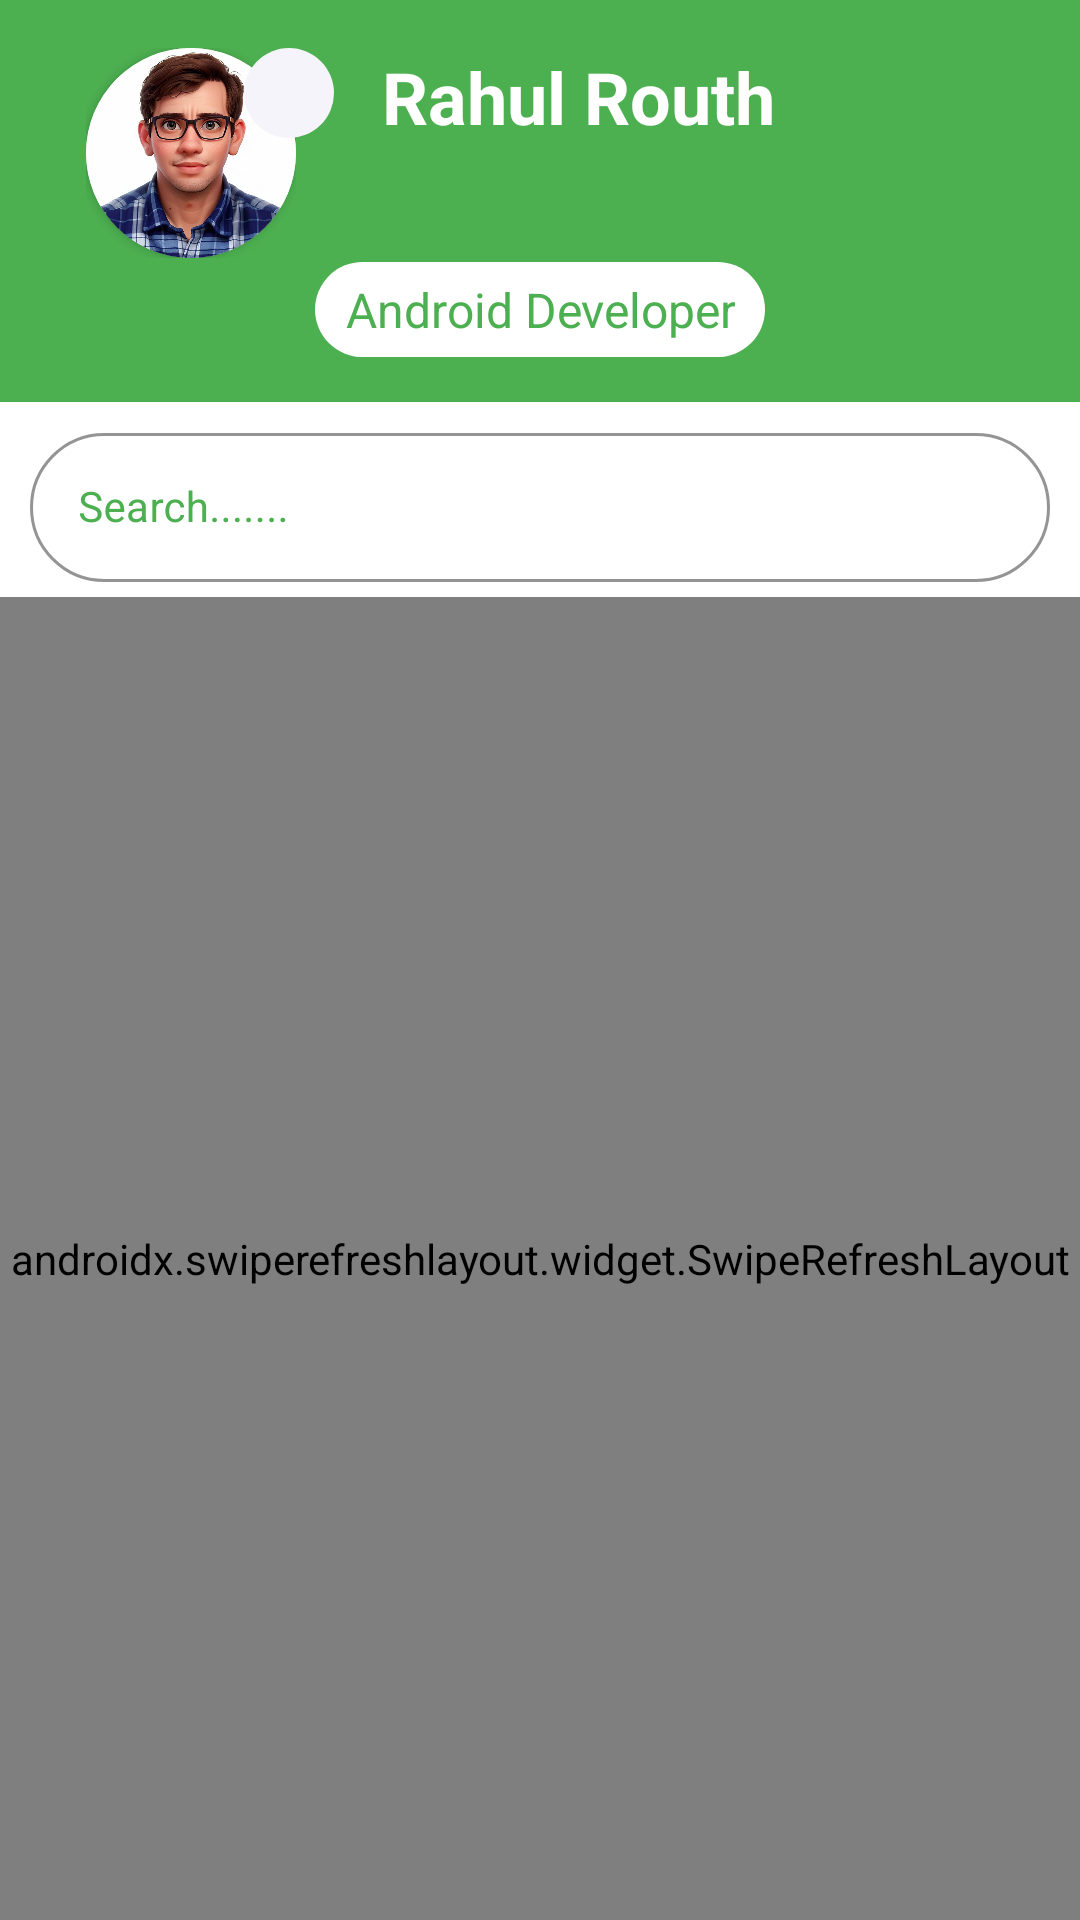

Locate icon controls on the screen. Image size 1080px x 1920px, boxes as (left=x1, top=y1, right=x2, bottom=y2).
profile pic: (left=86, top=48, right=296, bottom=258)
